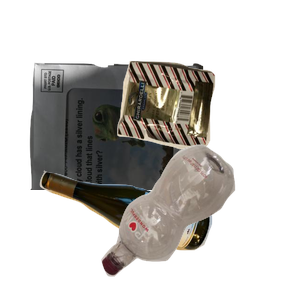glass: (37, 168, 242, 300)
paper: (27, 60, 223, 240)
plastic: (99, 142, 300, 300)
trash: (115, 58, 300, 200)
